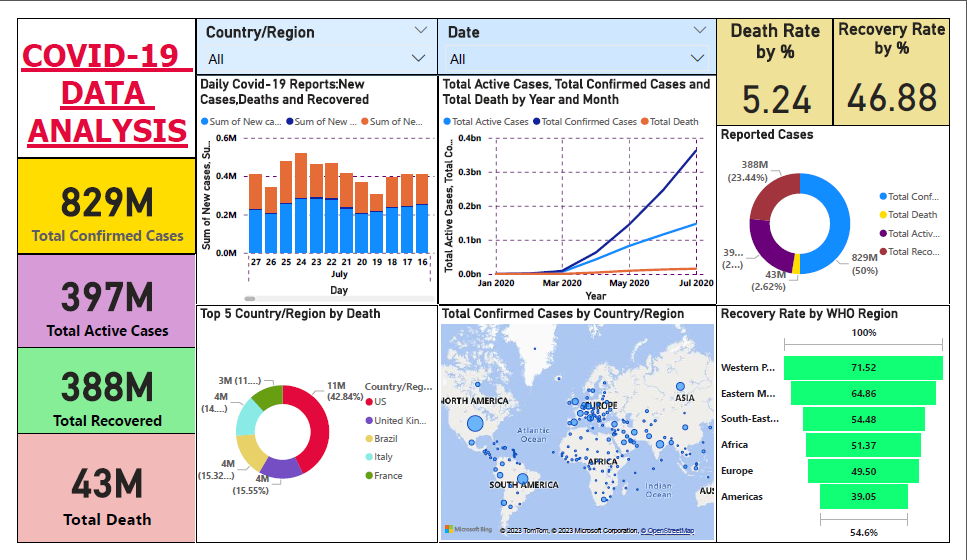

What the dashboard file says about the page in this screenshot:
{"tool":"powerbi","page":{"name":"Page 1","canvas":[1280,720],"ordinal":0},"visuals":[{"type":"card","fields":{"Values":["full_grouped.Total Death"]},"box":[0,570,245,150],"z":0},{"type":"card","fields":{"Values":["full_grouped.Total Active Cases"]},"box":[0,323.3,245,128.3],"z":1000},{"type":"card","fields":{"Values":["full_grouped.Total Recovered"]},"box":[0,451.7,245,118.3],"z":2000},{"type":"donutChart","title":"Reported Cases","fields":{"Y":["full_grouped.Total Confirmed Cases","full_grouped.Total Death","full_grouped.Total Active Cases","full_grouped.Total Recovered"]},"box":[960,146.7,320,246.7],"z":3000},{"type":"map","fields":{"Category":["full_grouped.Country/Region"],"Size":["full_grouped.Total Confirmed Cases"]},"box":[576.7,393.3,383.3,326.7],"z":4000},{"type":"columnChart","title":"Daily Covid-19 Reports:New Cases,Deaths and Recovered","fields":{"Category":["full_grouped.Date.Variation.Date Hierarchy.Month","full_grouped.Date.Variation.Date Hierarchy.Day"],"Y":["Sum(full_grouped.New cases)","Sum(full_grouped.New deaths)","Sum(full_grouped.New recovered)"]},"box":[245,78.3,331.7,315],"z":5000},{"type":"lineChart","fields":{"Y":["full_grouped.Total Active Cases","full_grouped.Total Confirmed Cases","full_grouped.Total Death"],"Category":["full_grouped.Date.Variation.Date Hierarchy.Year","full_grouped.Date.Variation.Date Hierarchy.Month"]},"box":[578.3,78.3,381.7,315],"z":6000},{"type":"slicer","fields":{"Values":["full_grouped.Date"]},"box":[576.7,0,383.3,78.3],"z":7000},{"type":"slicer","fields":{"Values":["full_grouped.Country/Region"]},"box":[245,0,331.7,78.3],"z":8000},{"type":"funnel","fields":{"Category":["full_grouped.WHO Region"],"Y":["full_grouped.Recovery Rate"]},"box":[960,393.3,320,326.7],"z":9000},{"type":"donutChart","title":"Top 5 Country/Region  by Death","fields":{"Y":["full_grouped.Total Death"],"Category":["full_grouped.Country/Region"]},"box":[245,393.3,333.3,326.7],"z":10000},{"type":"textbox","box":[0,0,245,191.7],"z":11000},{"type":"card","fields":{"Values":["full_grouped.Total Confirmed Cases"]},"box":[0,191.7,245,131.7],"z":12000},{"type":"card","title":"Death Rate by %","fields":{"Values":["full_grouped.Death Rate"]},"box":[960,0,160,146.7],"z":13000},{"type":"card","title":"Recovery Rate  by %","fields":{"Values":["full_grouped.Recovery Rate"]},"box":[1120,0,160,146.7],"z":14000}]}

Visuals, with their boxes in screenshot pixels (x1, y1, x2, y2), scaled from the page's 1280x720 canvas onto the 967x560 screenshot:
card - full_grouped.Total Death: crop(0, 443, 185, 559)
card - full_grouped.Total Active Cases: crop(0, 251, 185, 351)
card - full_grouped.Total Recovered: crop(0, 351, 185, 443)
"Reported Cases" donutChart: crop(725, 114, 966, 306)
map - full_grouped.Country/Region x full_grouped.Total Confirmed Cases: crop(436, 306, 725, 559)
"Daily Covid-19 Reports:New Cases,Deaths and Recovered" columnChart: crop(185, 61, 436, 306)
lineChart - full_grouped.Total Active Cases x full_grouped.Total Confirmed Cases: crop(437, 61, 725, 306)
slicer - full_grouped.Date: crop(436, 0, 725, 61)
slicer - full_grouped.Country/Region: crop(185, 0, 436, 61)
funnel - full_grouped.WHO Region x full_grouped.Recovery Rate: crop(725, 306, 966, 559)
"Top 5 Country/Region  by Death" donutChart: crop(185, 306, 437, 559)
textbox: crop(0, 0, 185, 149)
card - full_grouped.Total Confirmed Cases: crop(0, 149, 185, 252)
"Death Rate by %" card: crop(725, 0, 846, 114)
"Recovery Rate  by %" card: crop(846, 0, 966, 114)
